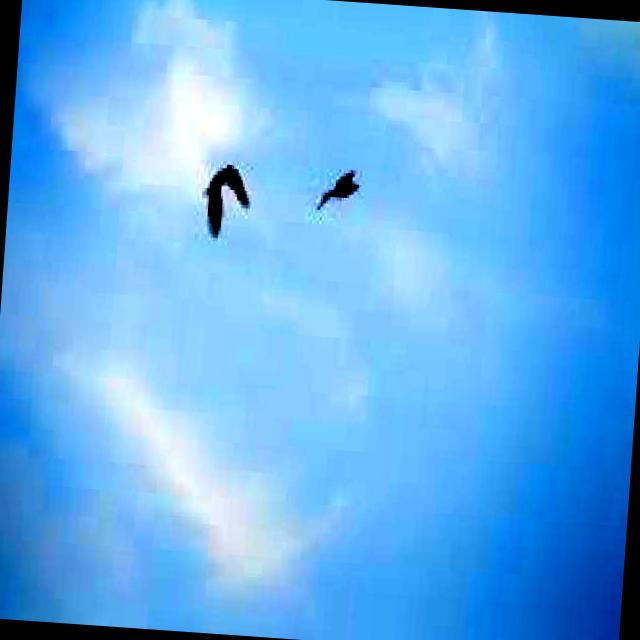bird: (180, 162, 262, 242), (314, 160, 362, 213)
